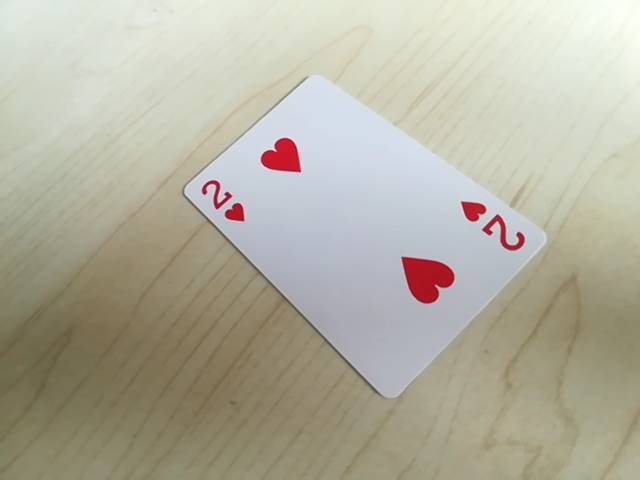hx 2: (456, 194, 530, 261), (191, 174, 252, 231)
